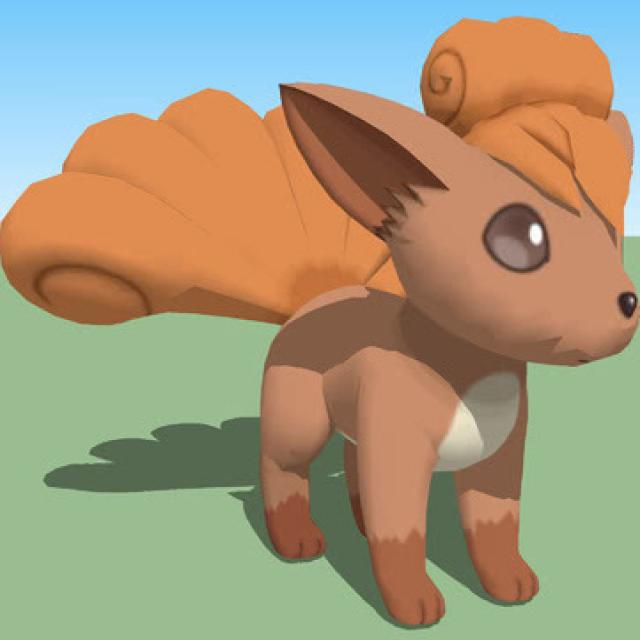Vulpix: (215, 20, 638, 572)
